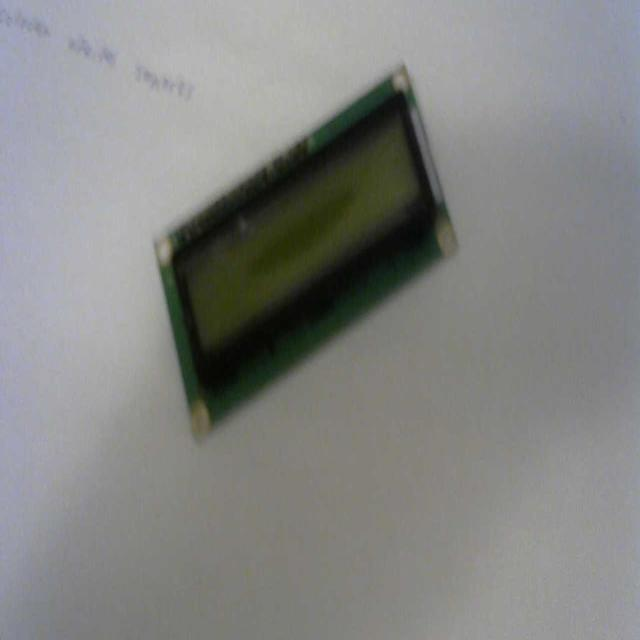lcd: (152, 61, 458, 439)
